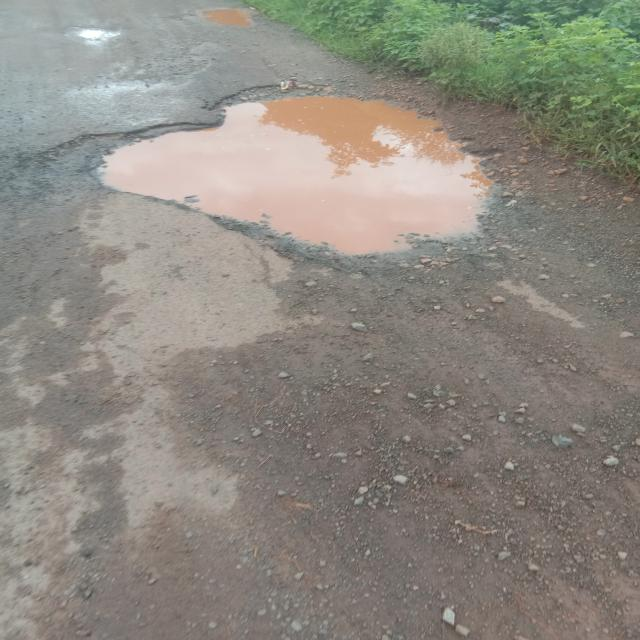potholes: (89, 84, 504, 268), (188, 4, 262, 36), (81, 26, 133, 45)
